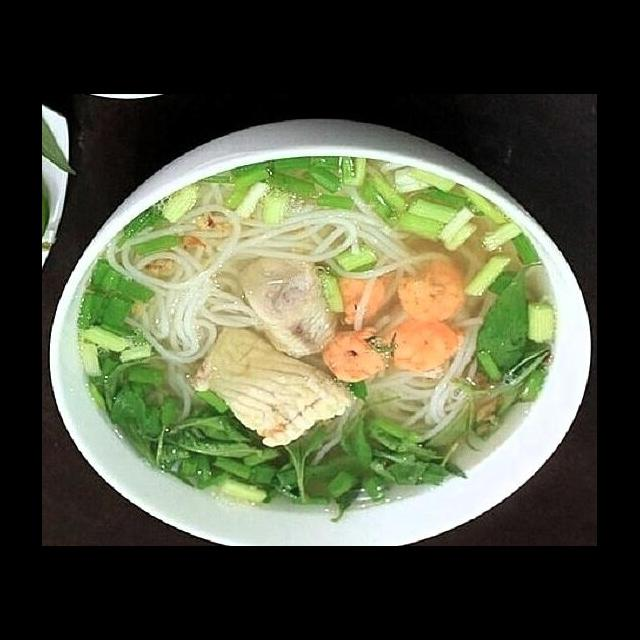bun: (130, 178, 444, 257), (103, 228, 224, 424), (368, 376, 488, 451)
bun ca: (61, 142, 559, 523)
ca: (182, 317, 362, 455), (234, 249, 344, 365)
rau ram: (146, 392, 268, 483), (468, 260, 536, 387), (268, 417, 328, 509)
tom: (393, 249, 472, 328), (374, 314, 466, 378), (320, 323, 392, 386), (330, 266, 390, 327)
